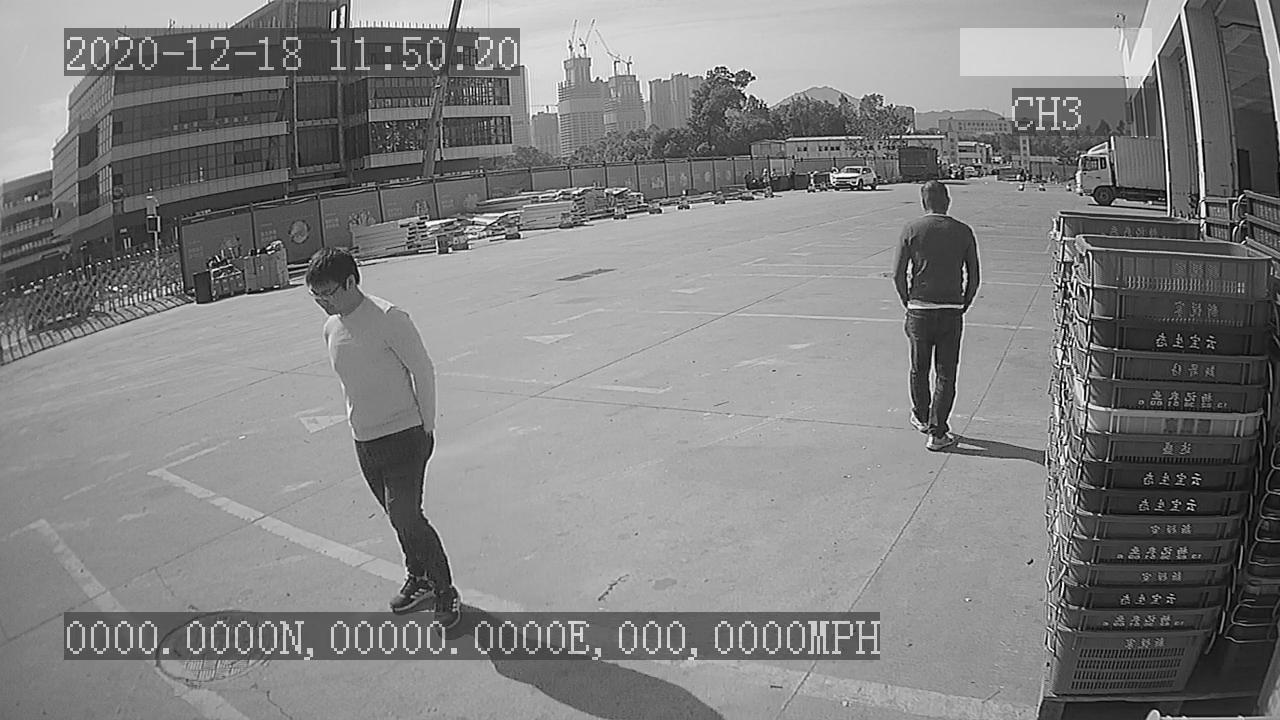person: (888, 174, 988, 451)
